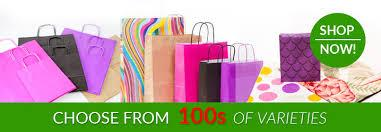Paper bag: (1, 18, 248, 102)
